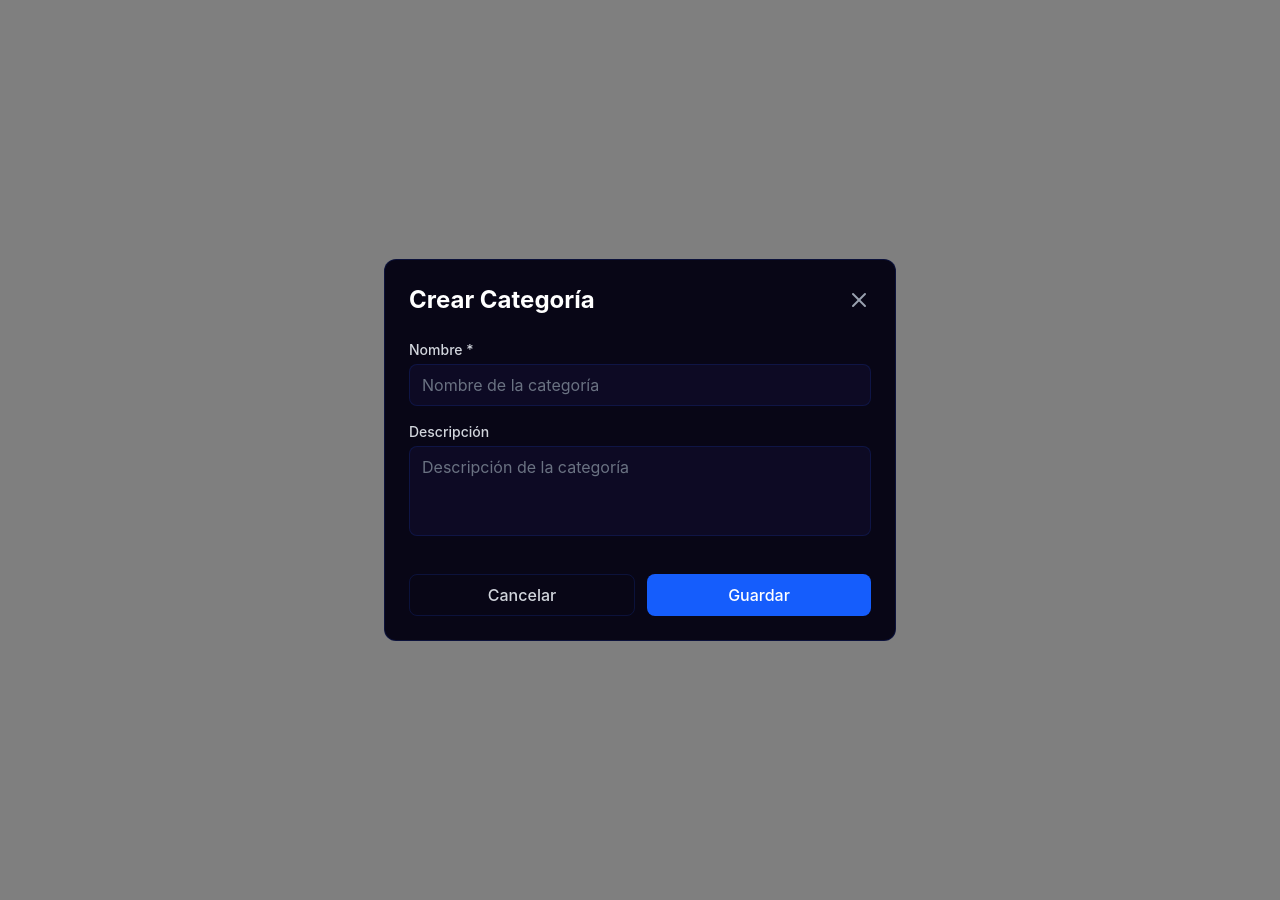
Test: CategoryFormModal › valida que el nombre sea obligatorio
Click the button "Guardar" at (759, 595), box [647,574,871,616]
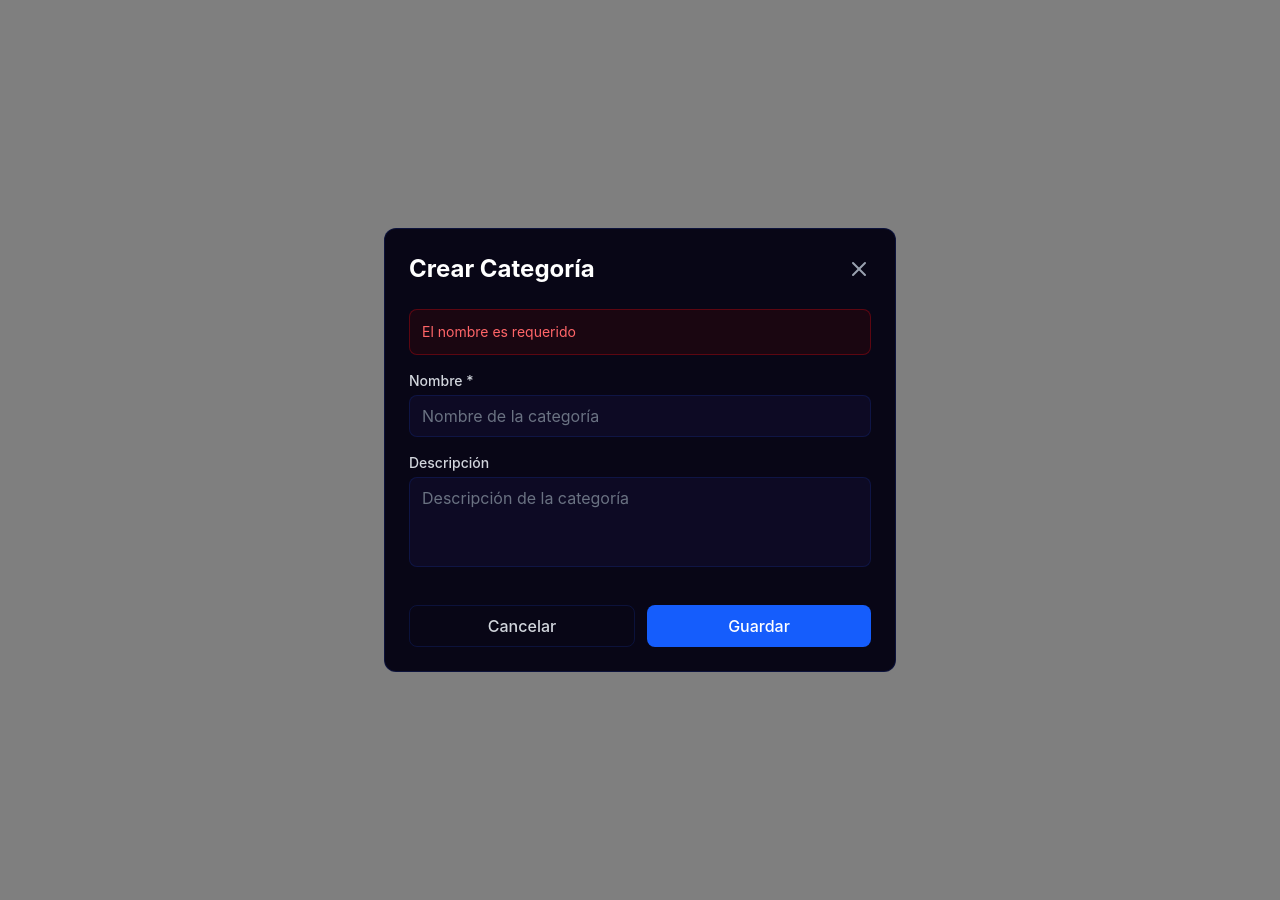
Result: the text "El nombre es requerido" is shown at [409,309,871,355]
